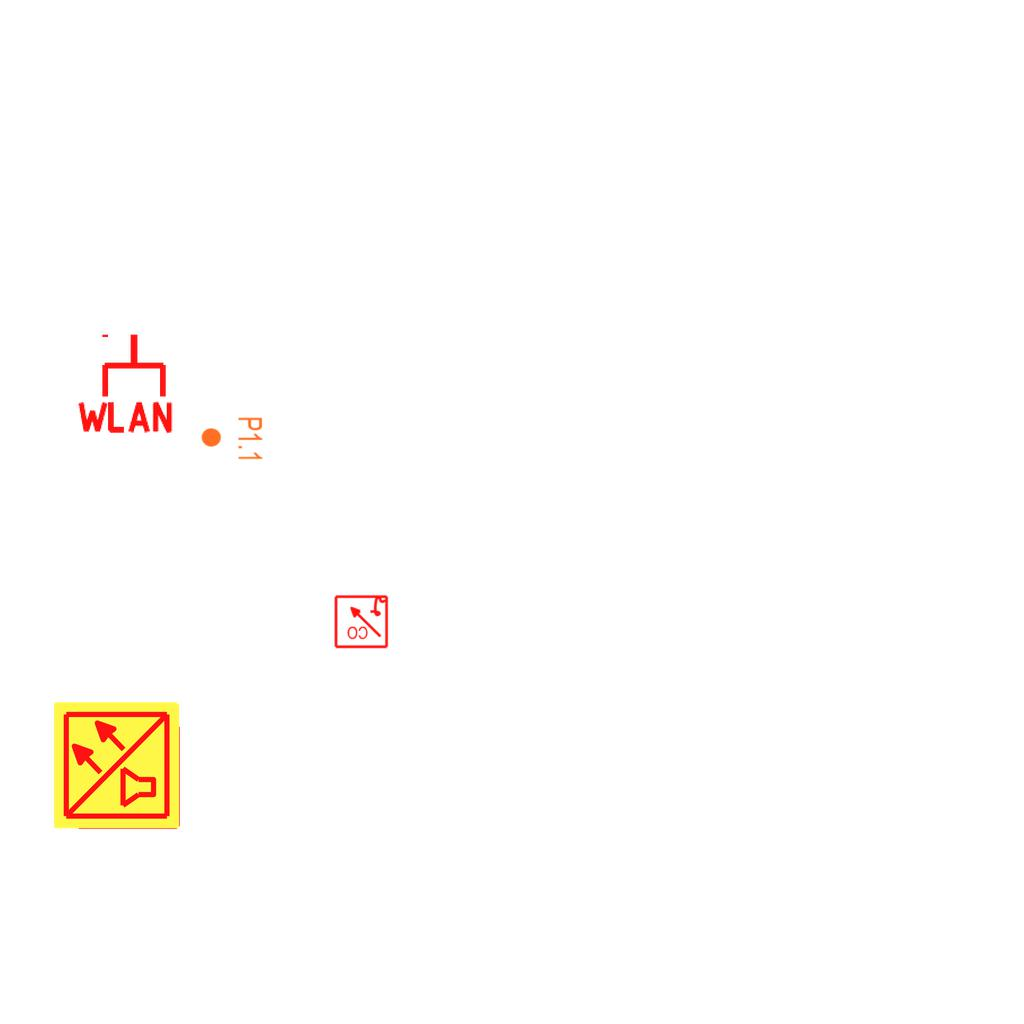Downlight_LED_Einbauleuchten_Flur: (200, 416, 264, 462)
OKW_Multisensormelder_(Kombination_optischer_Rauch-Kahlenmonoxid_Waerme-Melder): (51, 699, 183, 831)
ROA_Rauchmelder_optisch_mit_Signalgeber_(Sockelsirene): (333, 593, 389, 649)
WLAN: (73, 330, 177, 435)
